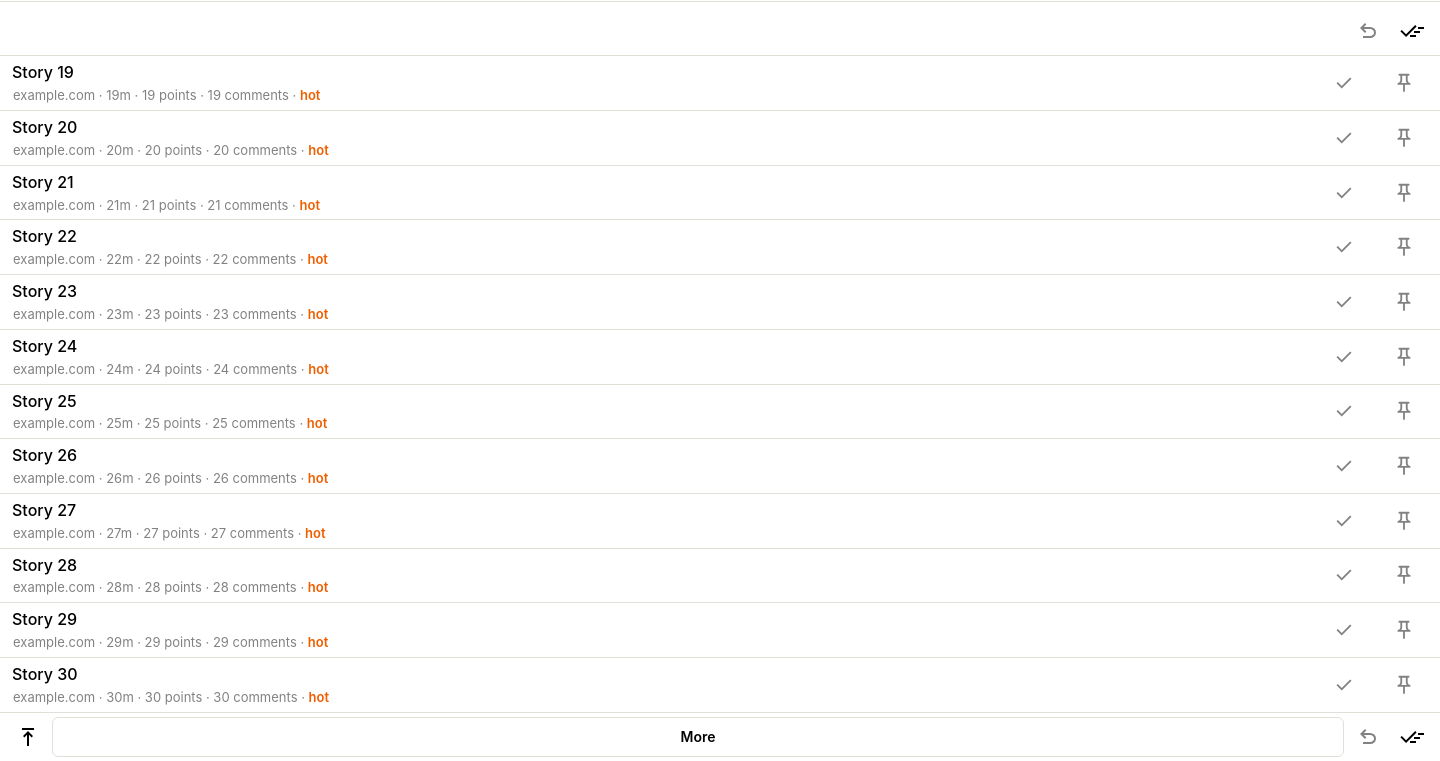
Test: <StoryList> › grays out the footer button after the last page is revealed
(page scrolled)
Click the button "More" at (698, 737), box [52,717,1344,757]
(page scrolled)
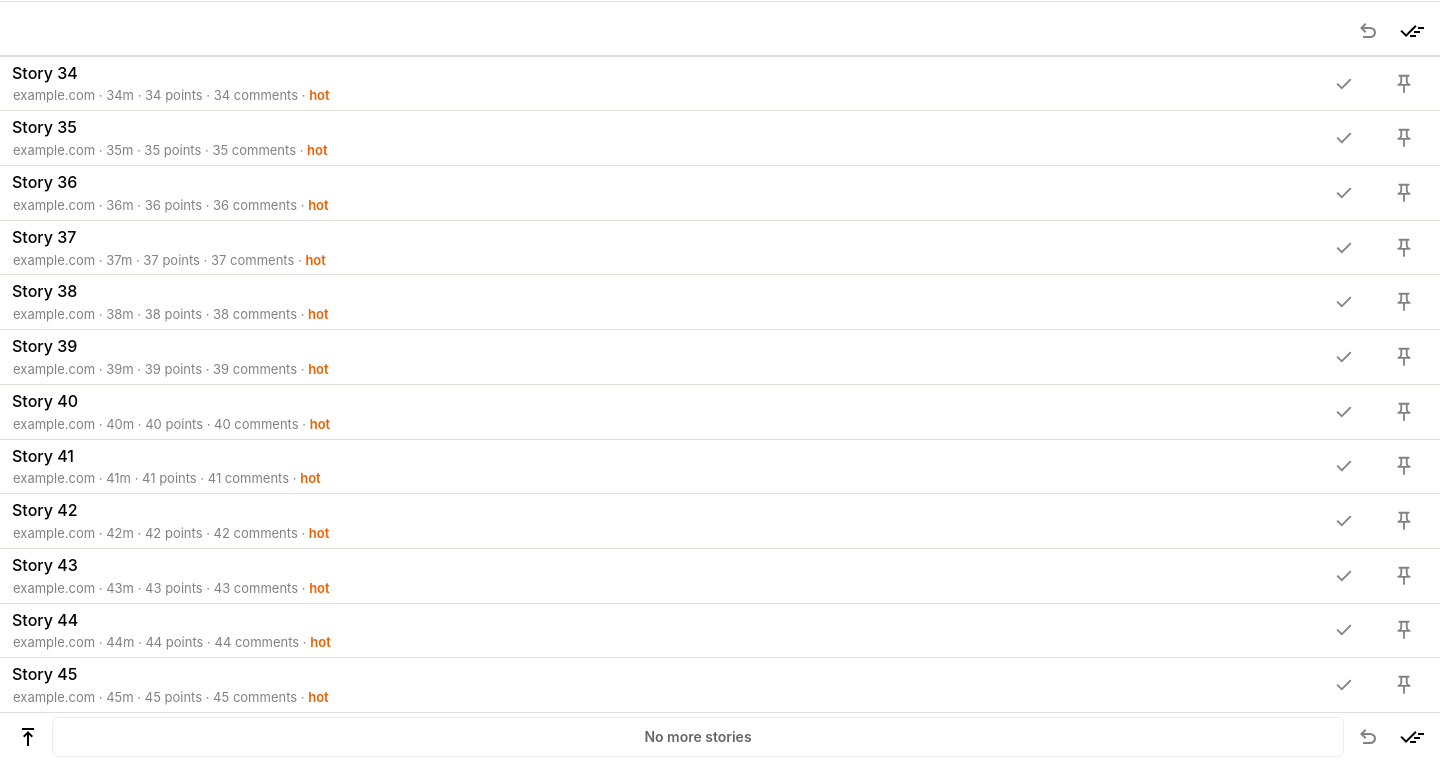
Result: the button "No more stories" is disabled at [52,717,1344,757]
